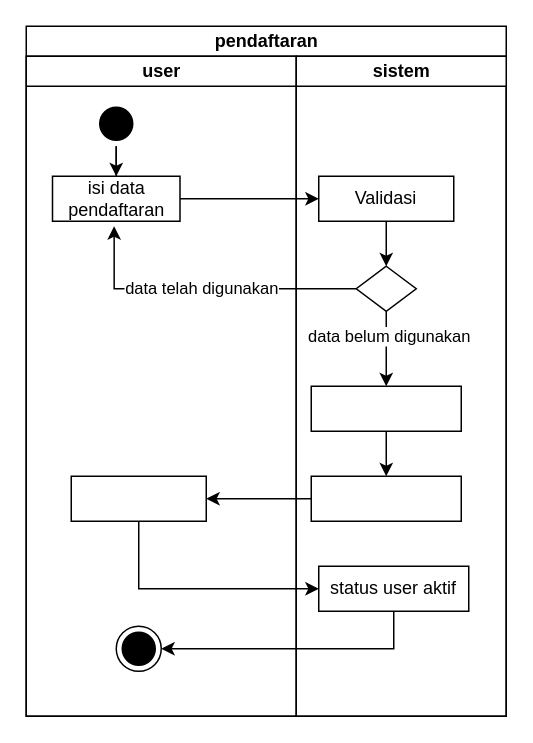
This 533x743 diagram has some shape labels left out. Each missing label, with the centre of its shape:
"kirim email" goes at (385,498).
"klik link email" goes at (138,498).
"simpan user" goes at (385,408).
